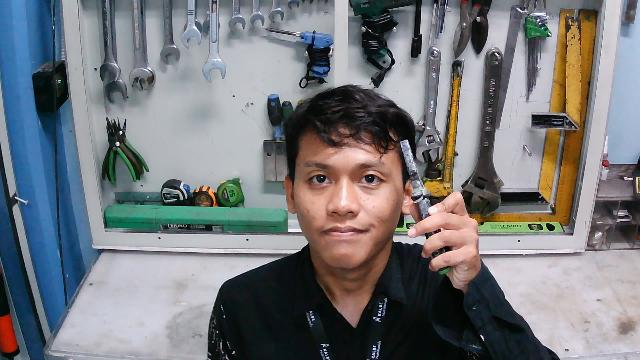tang_kombinasi: (397, 136, 453, 277)
